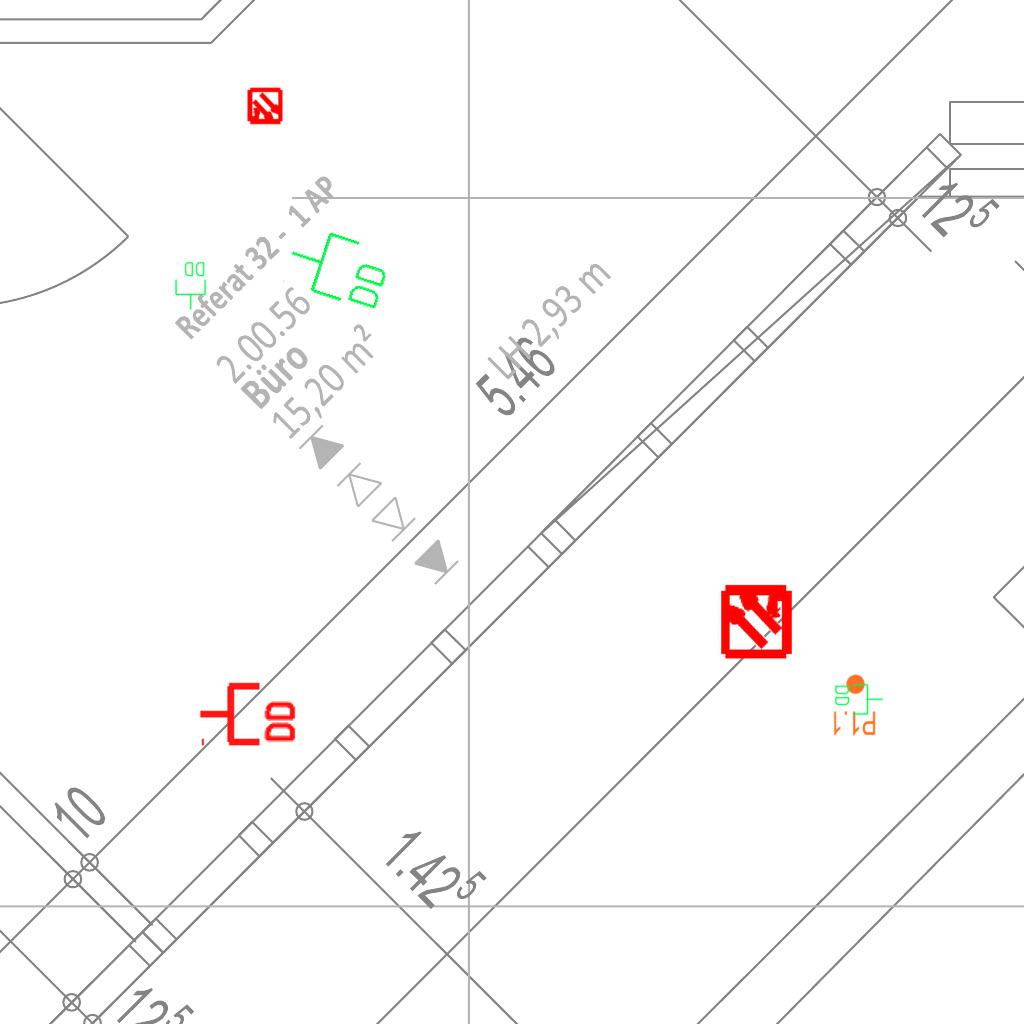Datenanschluss_zweifach: (278, 219, 399, 318), (197, 678, 300, 747), (174, 260, 208, 311), (833, 682, 884, 716)
Downlight_LED_Einbauleuchten_Flur: (831, 673, 877, 737)
OT_Multisensormelder_(Kombination_RMO_WMD): (700, 563, 813, 676), (237, 79, 293, 135)
